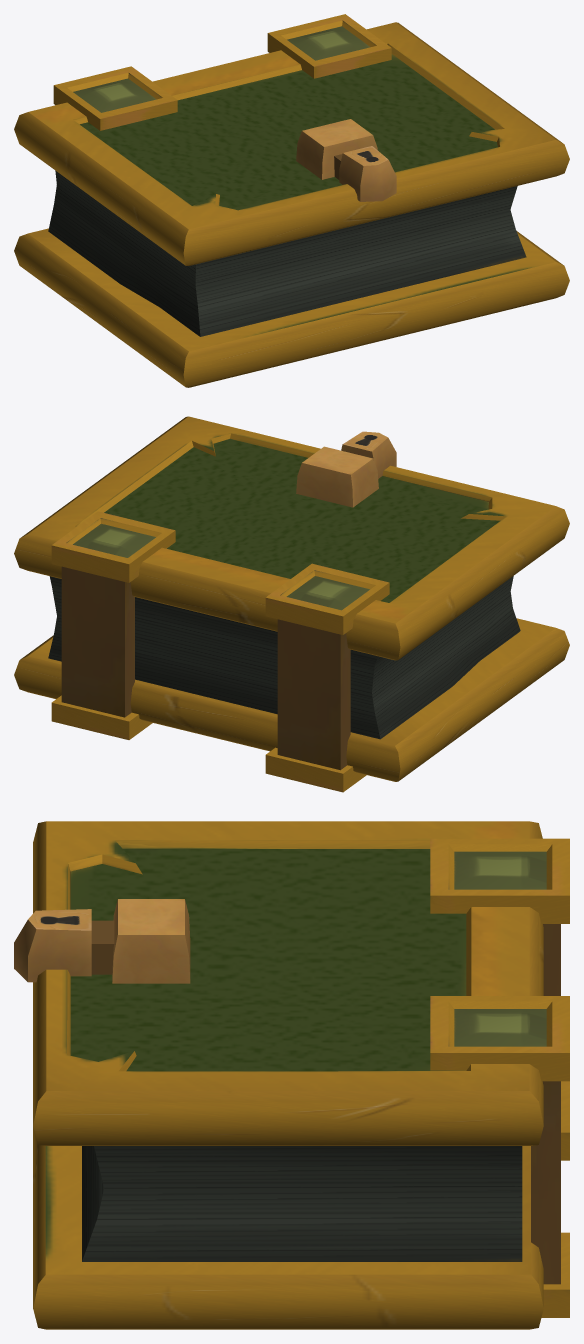
The model's file is BookV2.fbx.
3 views of the same model, one above another, from view 1: azimuth 30°, elevation 25°; view 2: azimuth 150°, elevation 25°; view 3: azimuth 270°, elevation 25° (orthographic). The views are drawn at different scales.
Parts seen in each view (by area): view 1: pCube2, pCube3, pCube12, pCube6, pCube10, pCube4, pCube8; view 2: pCube2, pCube3, pCube12, pCube9, pCube11, pCube6, pCube10, pCube4, pCube14, pCube13, pCube8; view 3: pCube2, pCube3, pCube12, pCube10, pCube6, pCube4, pCube9, pCube8, pCube14, pCube11, pCube5, pCube13.
Part boxes in pixels (bbox=[...]): pCube2: bbox=[14, 22, 569, 265]; pCube3: bbox=[48, 170, 526, 336]; pCube12: bbox=[14, 228, 569, 387]; pCube6: bbox=[267, 14, 391, 78]; pCube10: bbox=[53, 66, 177, 130]; pCube4: bbox=[296, 119, 377, 179]; pCube8: bbox=[339, 146, 396, 201]; pCube2: bbox=[14, 416, 569, 660]; pCube3: bbox=[48, 576, 520, 739]; pCube12: bbox=[14, 618, 569, 781]; pCube9: bbox=[61, 566, 134, 717]; pCube11: bbox=[277, 619, 350, 770]; pCube6: bbox=[51, 511, 175, 582]; pCube10: bbox=[265, 563, 389, 634]; pCube4: bbox=[296, 446, 378, 507]; pCube14: bbox=[51, 695, 152, 739]; pCube13: bbox=[265, 747, 366, 792]; pCube8: bbox=[341, 431, 396, 478]; pCube2: bbox=[33, 821, 543, 1145]; pCube3: bbox=[82, 1146, 522, 1261]; pCube12: bbox=[33, 1126, 543, 1329]; pCube10: bbox=[430, 838, 569, 923]; pCube6: bbox=[430, 996, 569, 1081]; pCube4: bbox=[112, 899, 190, 983]; pCube9: bbox=[531, 1081, 560, 1284]; pCube8: bbox=[14, 909, 91, 982]; pCube14: bbox=[541, 1232, 569, 1317]; pCube11: bbox=[543, 924, 560, 995]; pCube5: bbox=[91, 920, 114, 974]; pCube13: bbox=[561, 1081, 569, 1160].
Bounding box in the file's own units: 2.92 × 1.41 × 2.42.
